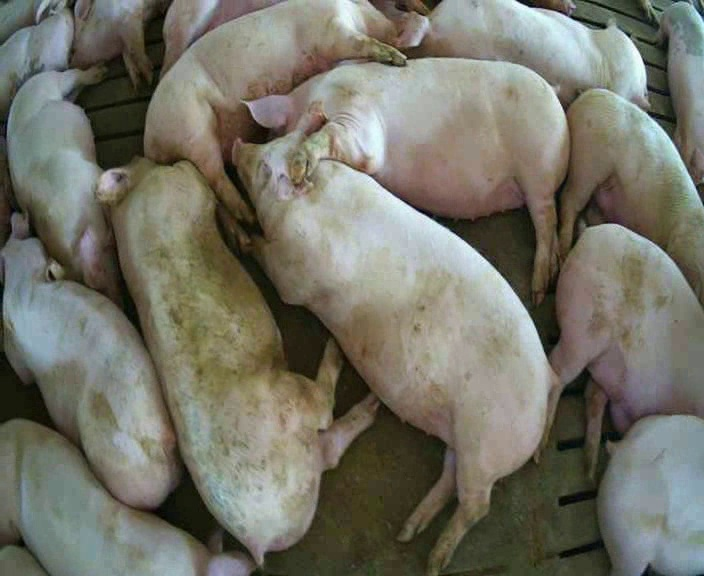pig: (97, 159, 378, 563), (246, 60, 568, 301), (145, 2, 404, 250), (0, 214, 180, 507), (545, 217, 703, 476), (559, 89, 703, 304), (393, 2, 648, 107), (8, 67, 119, 303), (598, 415, 703, 574), (0, 2, 73, 119), (656, 2, 703, 183)
